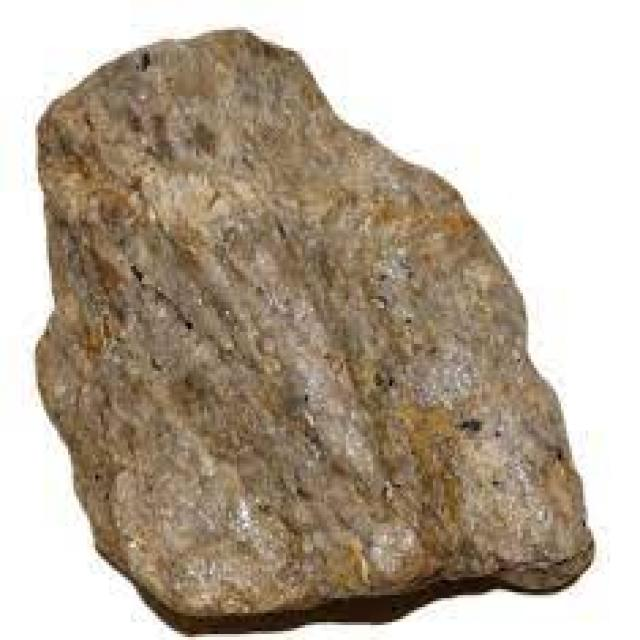stone: (38, 30, 588, 628)
